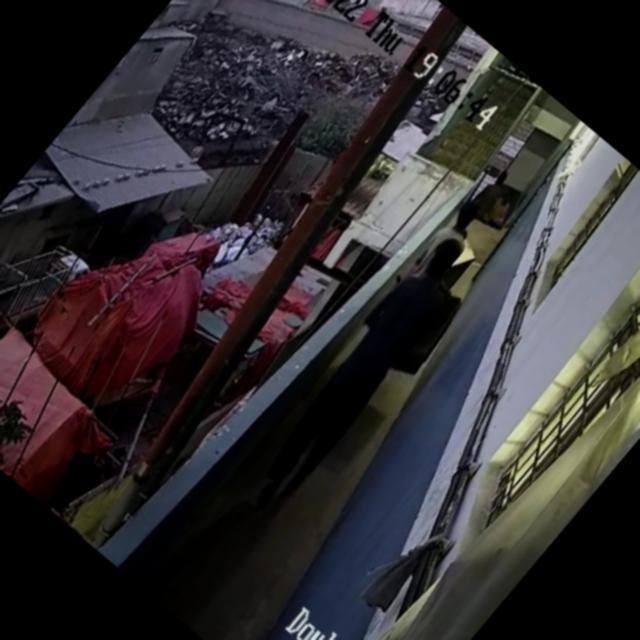person: (240, 237, 483, 514), (408, 202, 485, 286), (469, 168, 512, 214), (481, 184, 522, 228)
